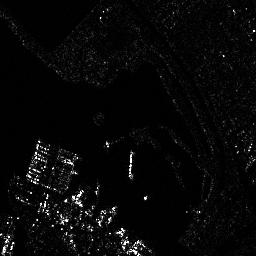ship: (128, 150, 135, 179)
